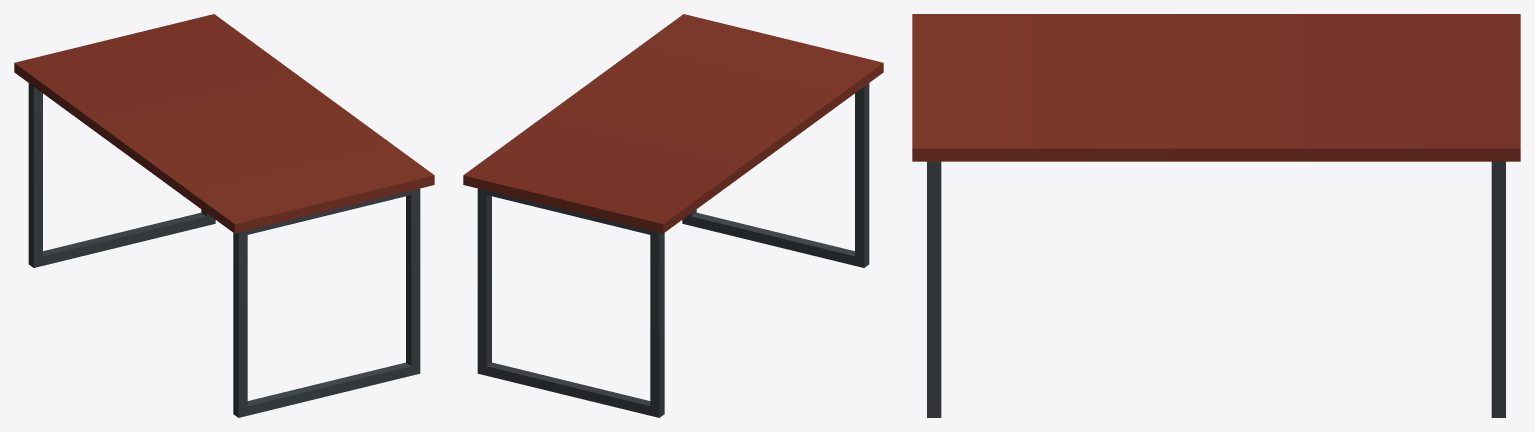
Rendered from work_station.obj.
3 views of the same model, side by side, from view 1: azimuth 30°, elevation 25°; view 2: azimuth 150°, elevation 25°; view 3: azimuth 270°, elevation 25° (orthographic). The views are drawn at different scales.
Parts seen in each view (by area): view 1: Cube.001; view 2: Cube.001; view 3: Cube.001.
Boxes of the visible parts, <box> form: Cube.001: <box>14,14,434,417</box>; Cube.001: <box>463,14,883,417</box>; Cube.001: <box>912,14,1520,417</box>.
Size of the model in its own units: 2.2 by 2.1 by 4.2.
